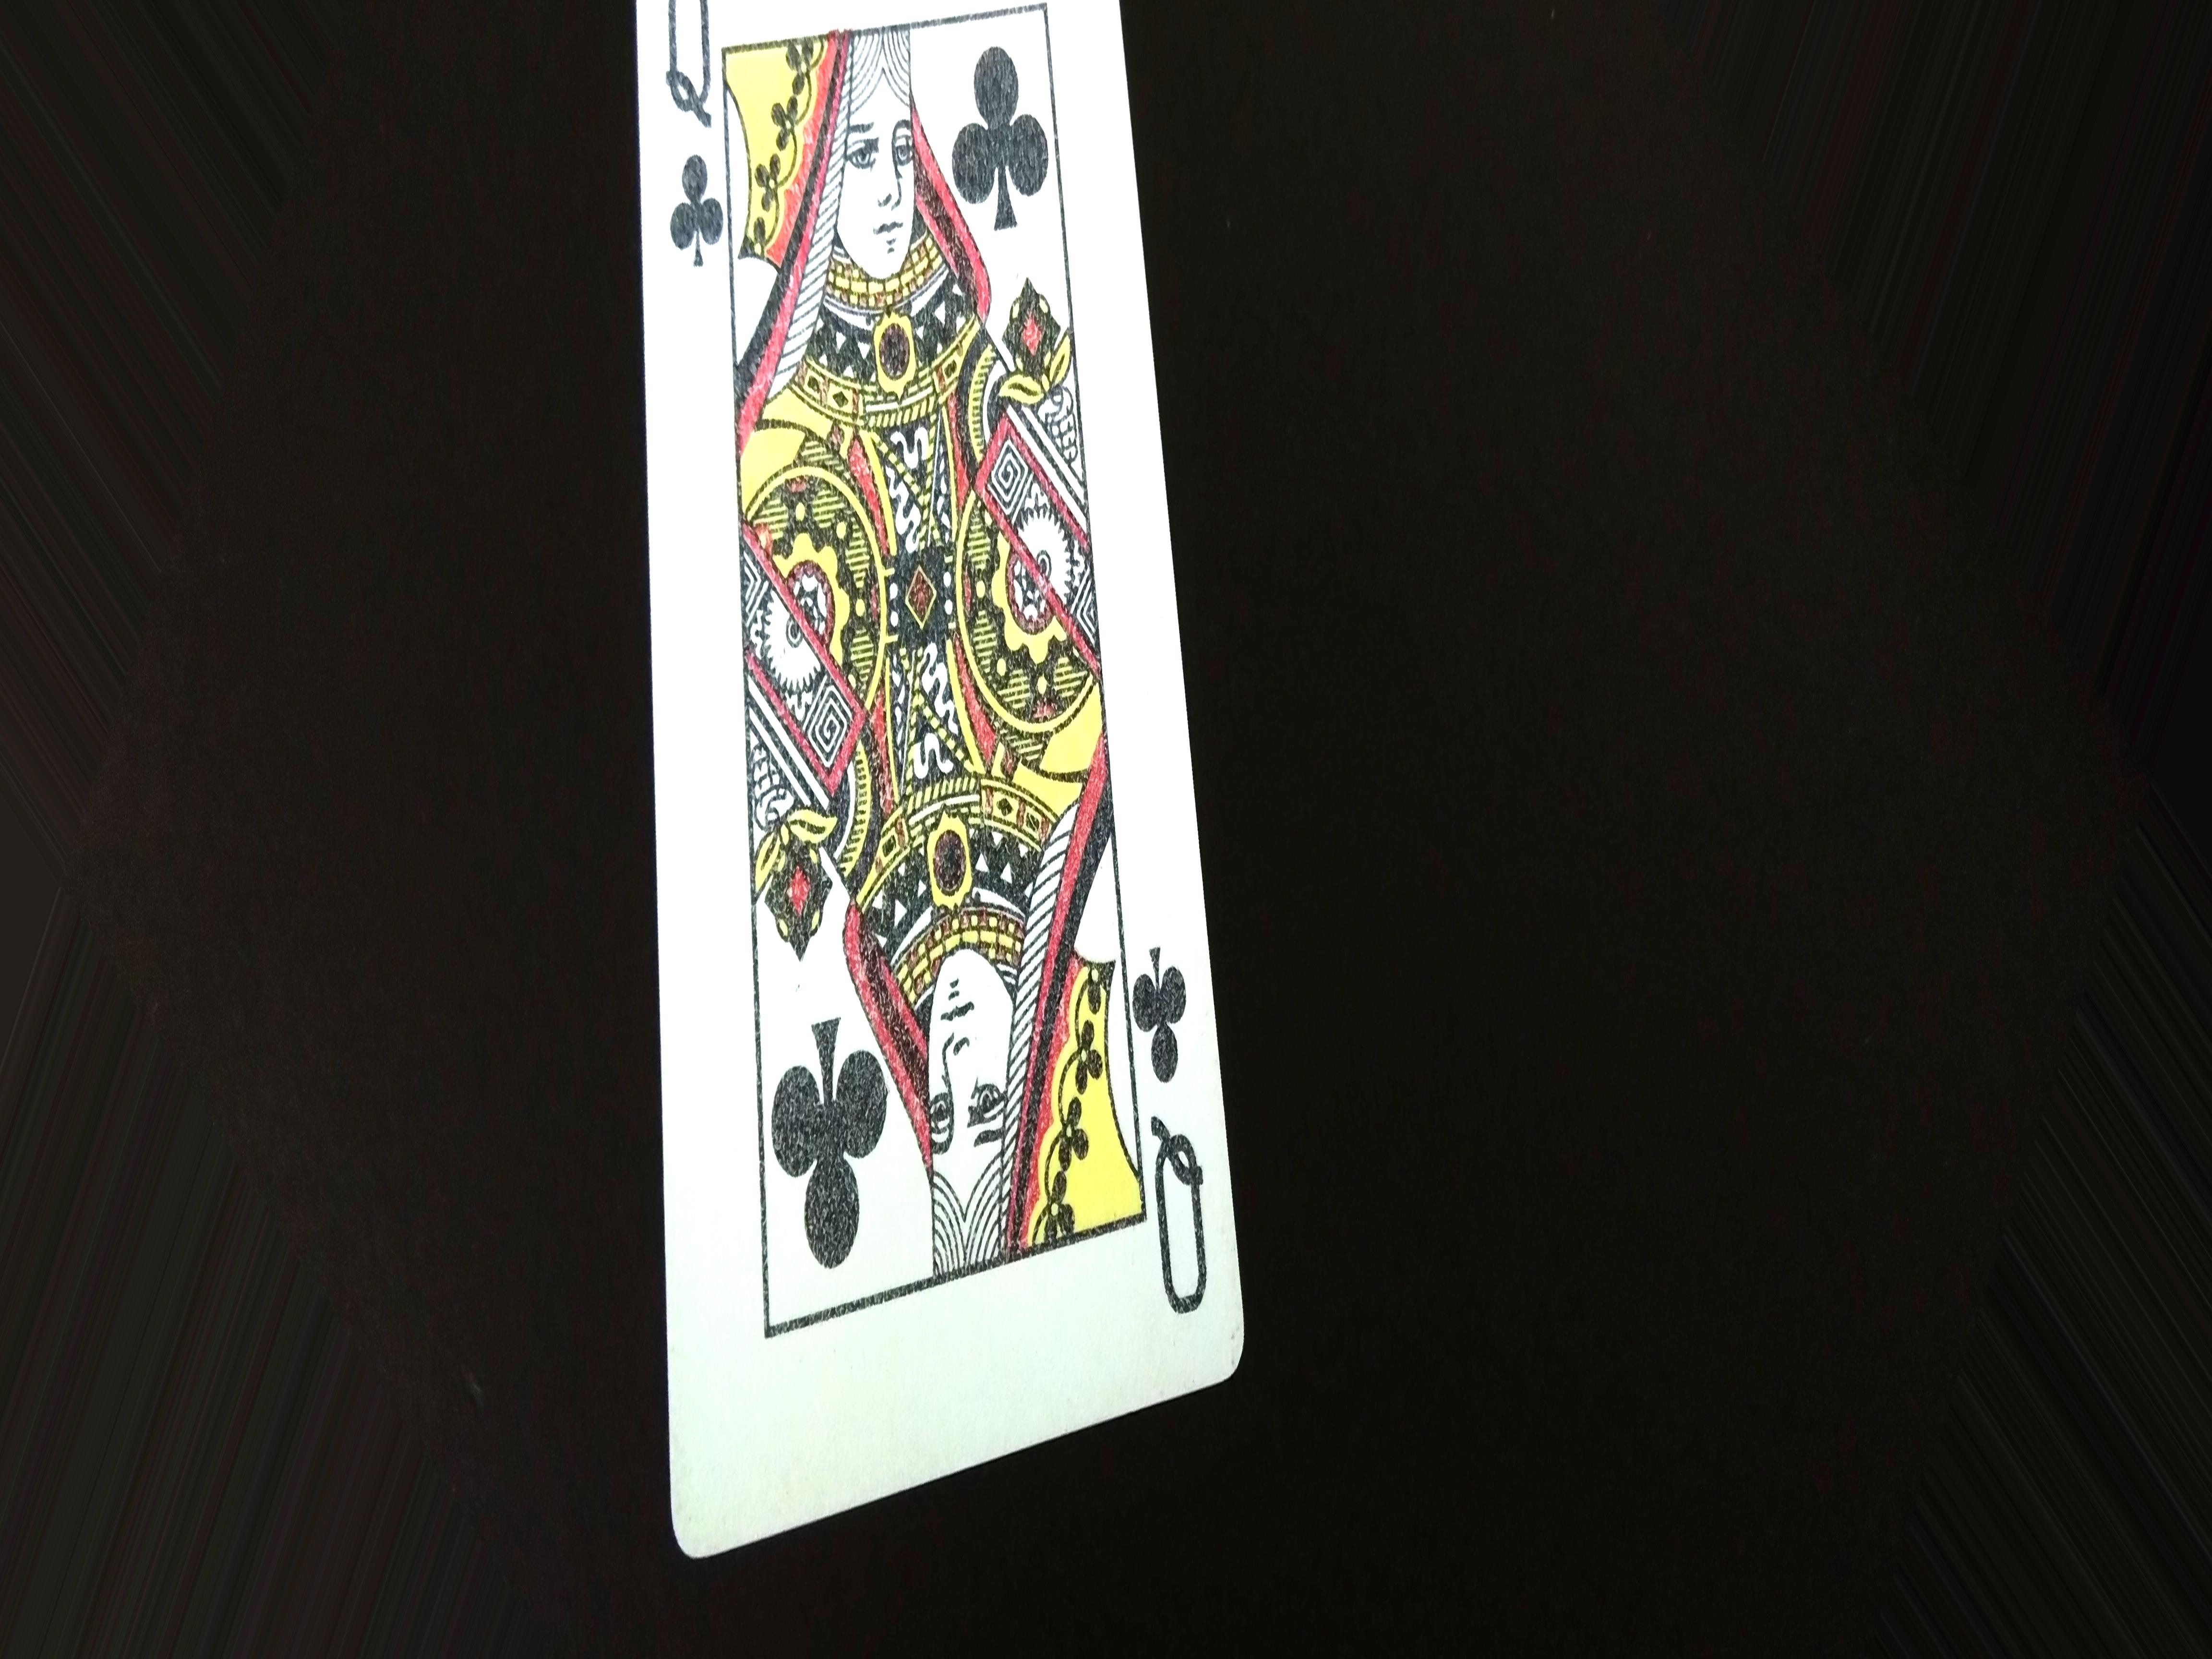QC: (1122, 927, 1223, 1321)
